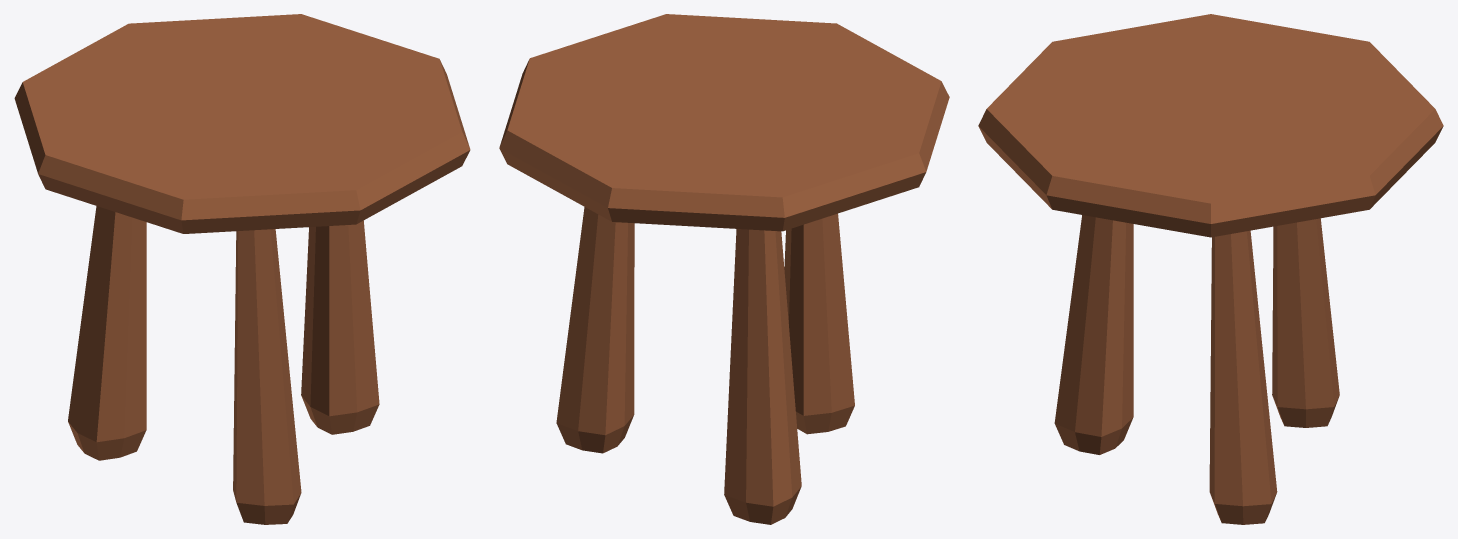
The model's file is Stool-1.fbx.
3 renders of one model, left to right at view 1: azimuth 30°, elevation 25°; view 2: azimuth 150°, elevation 25°; view 3: azimuth 270°, elevation 25°, orthographic.
Visible parts, largest first — view 1: Stool; view 2: Stool; view 3: Stool.
Boxes of the visible parts, <box> form: Stool: <box>14,14,470,524</box>; Stool: <box>499,14,949,524</box>; Stool: <box>978,14,1443,524</box>.
Bounding box in the file's own units: 622 × 622 × 517.
